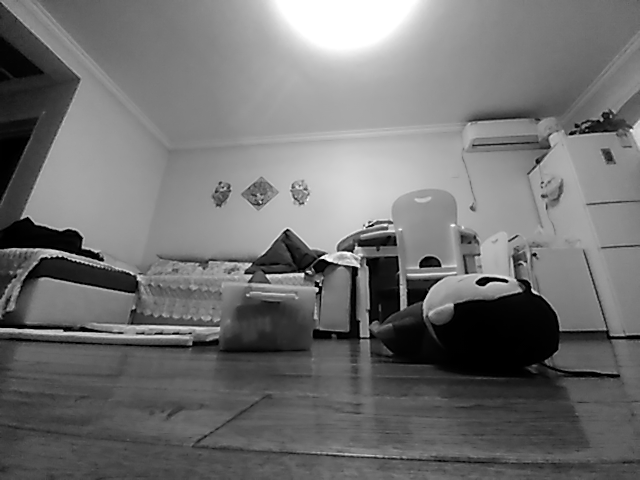carpet: (1, 320, 221, 350)
toy: (366, 272, 622, 380)
